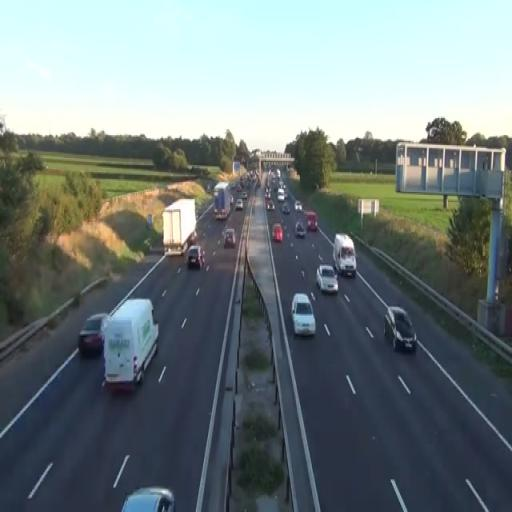Car: (384, 306, 417, 354), (78, 312, 110, 356), (122, 486, 176, 512), (291, 293, 316, 337), (316, 264, 338, 295), (186, 246, 204, 270), (222, 227, 236, 249), (272, 222, 284, 242), (295, 220, 307, 238), (234, 199, 244, 211)
Truck: (101, 297, 160, 391), (162, 198, 196, 256), (333, 234, 357, 278), (213, 182, 232, 220)
